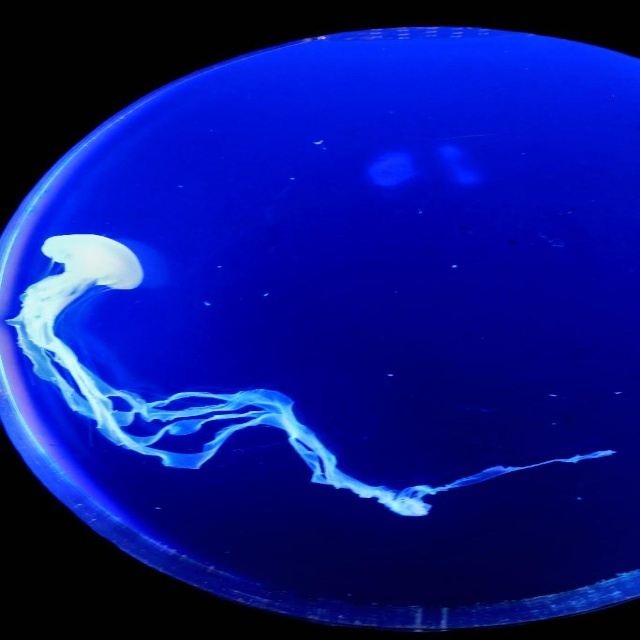Jellyfish: (63, 205, 640, 594)
